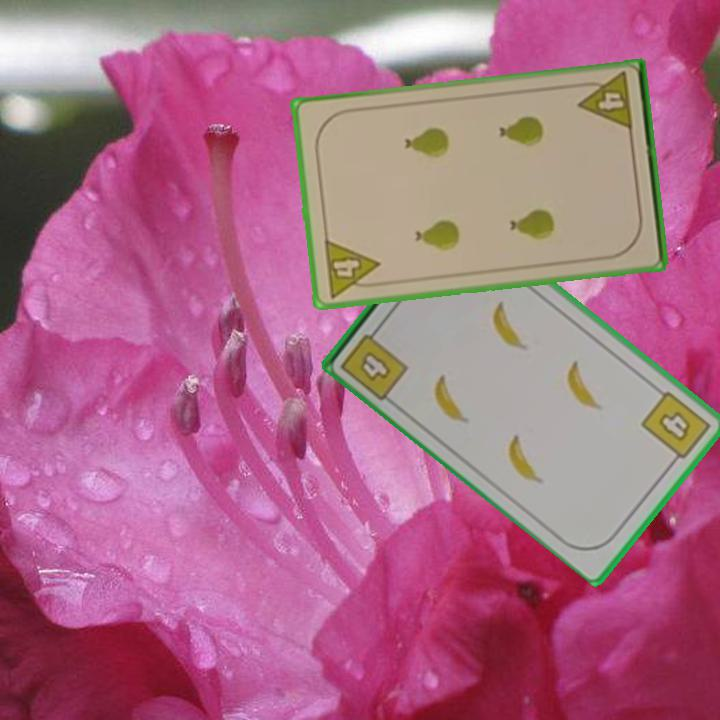4b: (637, 387, 714, 468), (337, 320, 411, 403)
4p: (320, 235, 384, 301), (574, 69, 636, 134)
